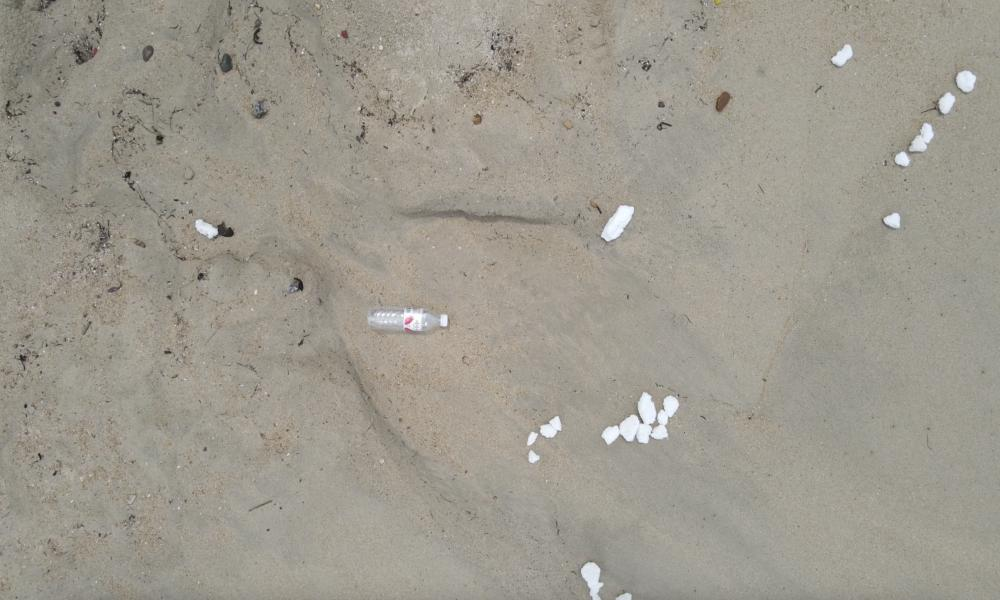plastic bottle: (368, 305, 451, 336)
styrofoam: (528, 414, 561, 466), (895, 126, 934, 169), (653, 396, 679, 444), (602, 204, 636, 240), (581, 558, 603, 600), (193, 217, 220, 240), (637, 388, 655, 422), (619, 414, 640, 442), (833, 45, 855, 67), (938, 91, 955, 119), (956, 71, 976, 94), (602, 423, 618, 444), (886, 210, 902, 230)
